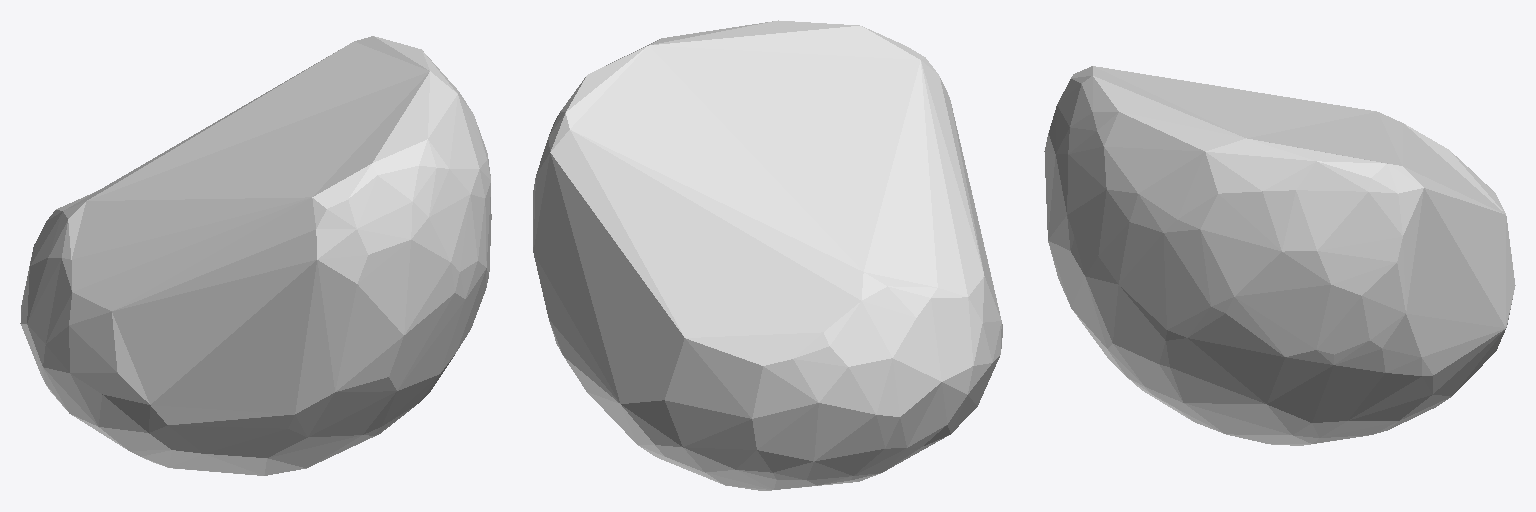
URDF robot description (talos_rleg_rom):
<?xml version="1.0" ?>
<robot name="talos_rleg_rom" xmlns:controller="http://playerstage.sourceforge.net/gazebo/xmlschema/#controller" xmlns:interface="http://playerstage.sourceforge.net/gazebo/xmlschema/#interface" xmlns:sensor="http://playerstage.sourceforge.net/gazebo/xmlschema/#sensor" xmlns:xacro="http://ros.org/wiki/xacro">

  <link name="torso_2_link">
    <inertial>
      <origin rpy="0.00000 0.00000 0.00000" xyz="-0.04551 -0.00053 0.16386"/>
      <mass value="17.55011"/>
      <inertia ixx="0.37376900000" ixy="0.00063900000" ixz="0.01219600000" iyy="0.24790200000" iyz="0.00000700000" izz="0.28140400000"/>
    </inertial>
  </link>
  <!--************************-->
  <!--        TORSO_1  (PAN)  -->
  <!--************************-->
  <link name="torso_1_link">
    <inertial>
      <origin rpy="0.00000 0.00000 0.00000" xyz="0.00013 -0.00001 -0.01306"/>
      <mass value="3.02433"/>
      <inertia ixx="0.00759400000" ixy="0.00000100000" ixz="-0.00004800000" iyy="0.00429200000" iyz="-0.00000100000" izz="0.00749700000"/>
    </inertial>
  </link>
  <joint name="torso_1_joint" type="revolute">
    <parent link="base_link"/>
    <child link="torso_1_link"/>
    <origin rpy="0.0 0.0 0.0" xyz="0.0 0.0 0.0722"/>
    <axis xyz="0 0 1"/>
    <limit effort="78.0" lower="-1.25663706144" upper="1.25663706144" velocity="5.4"/>
  </joint>
  <!--************************-->
  <!--        BASE_LINK       -->
  <!--************************-->
  <link name="base_link">
    <inertial>
      <origin rpy="0.00000 0.00000 0.00000" xyz="-0.08222 0.00838 -0.07261"/>
      <mass value="13.53810"/>
      <inertia ixx="0.06989000000" ixy="-0.00011700000" ixz="0.00023000000" iyy="0.03998200000" iyz="-0.00132500000" izz="0.08234500000"/>
    </inertial>
    <visual>
      <origin rpy="0 0 0" xyz="0 0 0"/>
      <geometry>
        <mesh filename="package://talos-rbprm/meshes/talos_rleg_rom.dae" scale="1 1 1"/>
      </geometry>
      <material name="LightGrey"/>
    </visual>
    <collision>
      <origin rpy="0 0 0" xyz="0 0 0"/>
      <geometry>
        <mesh filename="package://talos-rbprm/meshes/talos_rleg_rom.stl" scale="1 1 1"/>
      </geometry>
    </collision>
  </link>
  <joint name="torso_2_joint" type="revolute">
    <parent link="torso_1_link"/>
    <child link="torso_2_link"/>
    <origin rpy="0.0 0.0 0.0" xyz="0.0 0.0 0.0"/>
    <axis xyz="0 1 0"/>
    <limit effort="78.0" lower="-0.226892802759" upper="0.733038285838" velocity="5.4"/>
    <dynamics damping="1.0" friction="1.0"/>
    <!-- <safety_controller k_position="20"
                          k_velocity="20"
                          soft_lower_limit="${-75.00000 * deg_to_rad + eps_radians}"
                          soft_upper_limit="${75.00000 * deg_to_rad - eps_radians}" /> -->
  </joint>
  <!-- define global properties -->
  <!-- <xacro:property name="M_PI" value="3.1415926535897931" /> -->
  <!-- Materials for visualization -->
  <material name="Blue">
    <color rgba="0.0 0.0 0.8 1.0"/>
  </material>
  <material name="Green">
    <color rgba="0.0 0.8 0.0 1.0"/>
  </material>
  <material name="Grey">
    <color rgba="0.7 0.7 0.7 1.0"/>
  </material>
  <material name="LightGrey">
    <color rgba="0.9 0.9 0.9 1.0"/>
  </material>
  <material name="DarkGrey">
    <color rgba="0.2 0.2 0.2 1.0"/>
  </material>
  <material name="Red">
    <color rgba="0.8 0.0 0.0 1.0"/>
  </material>
  <material name="White">
    <color rgba="1.0 1.0 1.0 1.0"/>
  </material>
  <material name="Orange">
    <color rgba="1.0 0.5 0.0 1.0"/>
  </material>
</robot>

--- What the picture shows (computed from the rendered views, not written in the file) ---
3 views of the same robot in one strip: view 1: azimuth 30°, elevation 25°; view 2: azimuth 150°, elevation 25°; view 3: azimuth 270°, elevation 25° (orthographic).
Model talos_rleg_rom with 3 links and 2 joints (2 revolute), rooted at base_link, posed all joints at 0.
Links seen in each view (by area): view 1: base_link; view 2: base_link; view 3: base_link.
Boxes of the visible links, box(x1,y1,x2,y2) form: base_link: box(20, 36, 491, 475); base_link: box(533, 20, 1002, 490); base_link: box(1044, 66, 1515, 445).
Bounding box of the posed robot: 1.49 × 1.47 × 1.26 m (x, y, z).
Meshes: 1 distinct files referenced, 1 mesh visuals loaded (1 Collada DAE).